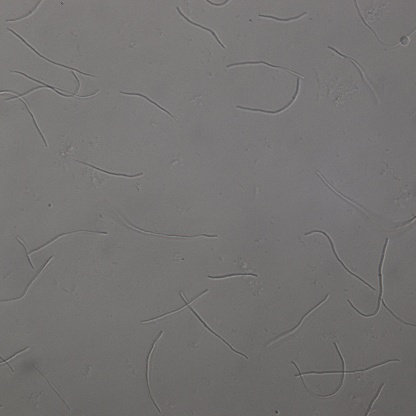Sensitive: (4, 27, 100, 109), (140, 288, 247, 357), (291, 341, 400, 399), (347, 238, 416, 325), (227, 59, 304, 115), (304, 230, 375, 289), (16, 231, 108, 268), (264, 294, 329, 346), (115, 209, 217, 240), (329, 47, 381, 103), (354, 1, 416, 47), (315, 170, 371, 218), (1, 256, 52, 305), (2, 88, 45, 144), (177, 6, 225, 46), (139, 331, 161, 413), (120, 89, 174, 118), (75, 159, 143, 181), (259, 10, 308, 23), (206, 272, 257, 281)
